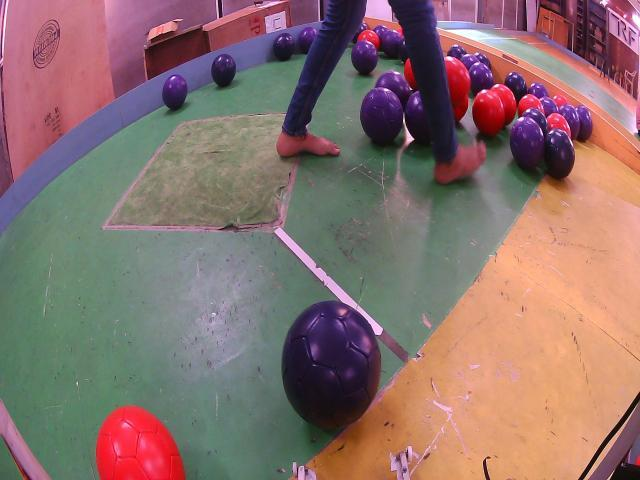jambhalya: (360, 87, 404, 144), (510, 117, 545, 168), (404, 92, 431, 145), (375, 70, 411, 109), (351, 40, 378, 75), (162, 75, 188, 110), (469, 62, 494, 94), (559, 103, 580, 139), (576, 105, 592, 142), (381, 30, 402, 58), (299, 27, 318, 53), (352, 20, 369, 42), (540, 97, 558, 117), (528, 82, 549, 98), (461, 53, 479, 70), (374, 25, 389, 40)
kaalyya: (281, 302, 381, 430), (544, 128, 575, 178), (211, 53, 236, 87), (522, 107, 549, 138), (504, 72, 528, 103), (274, 33, 295, 61), (474, 52, 491, 70), (448, 43, 466, 60), (399, 37, 409, 63)
